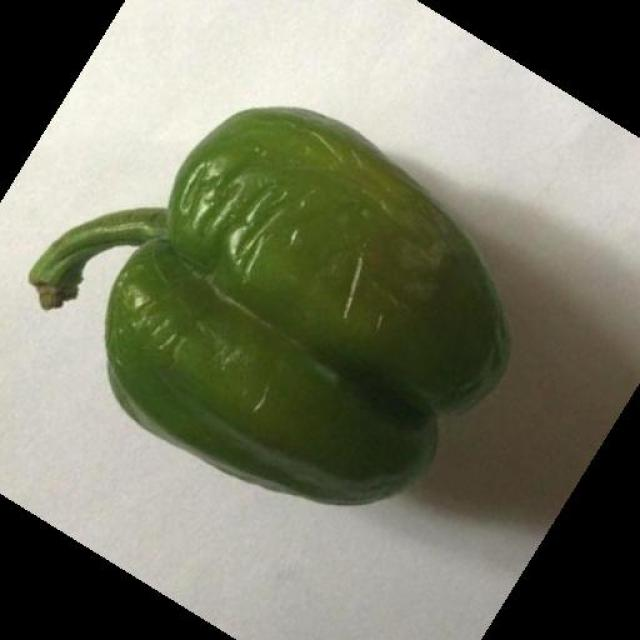Stale_Capsicum: (96, 74, 492, 493)
